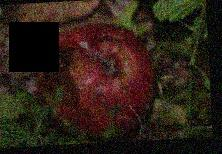rotten apple: (36, 18, 160, 138)
